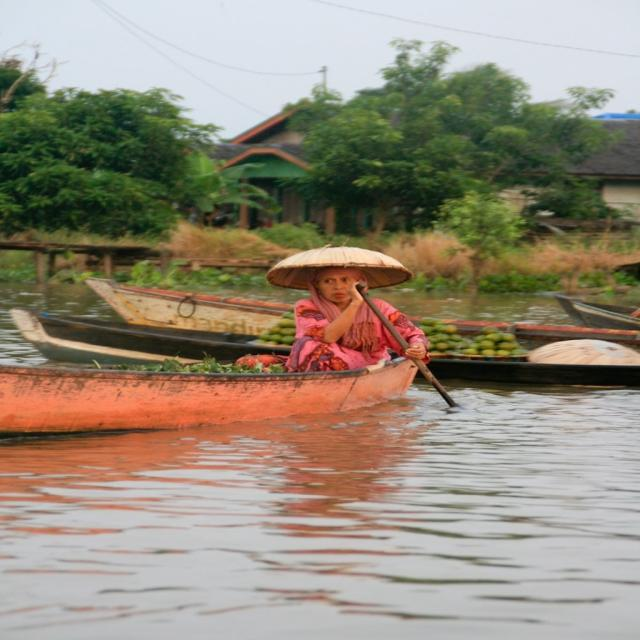boat: (0, 341, 425, 438)
